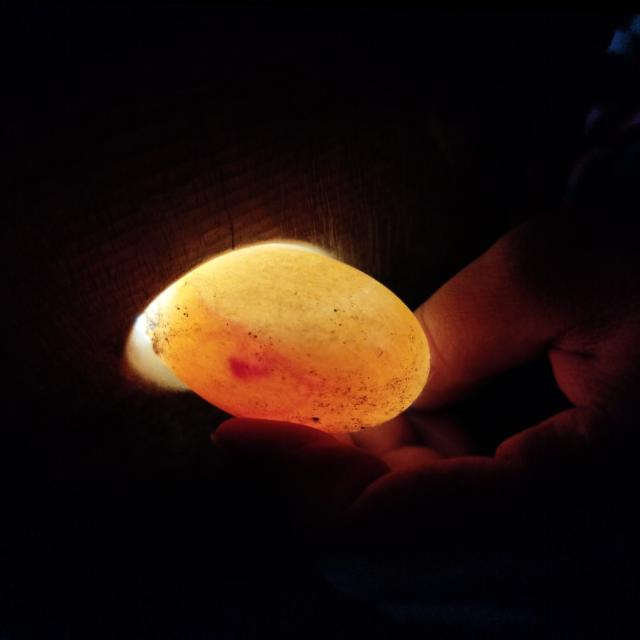Gema Quebrada: (164, 296, 365, 424)
